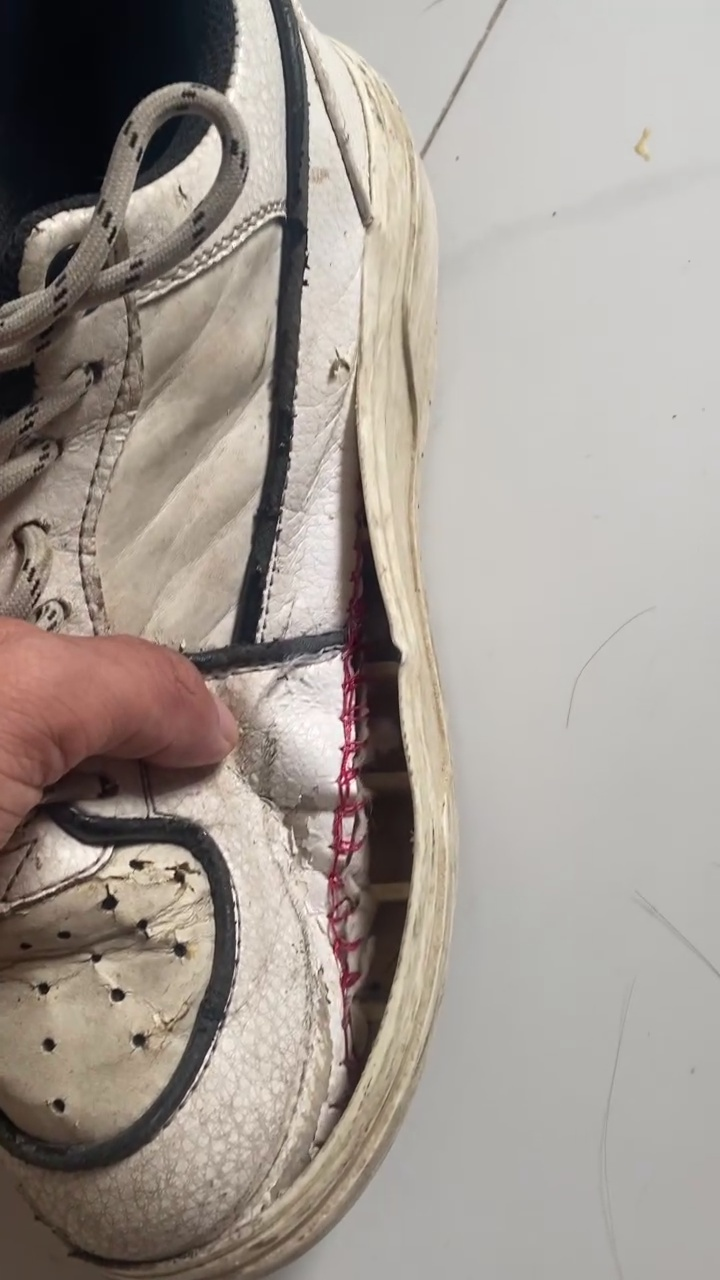bonding: (308, 424, 427, 1116)
